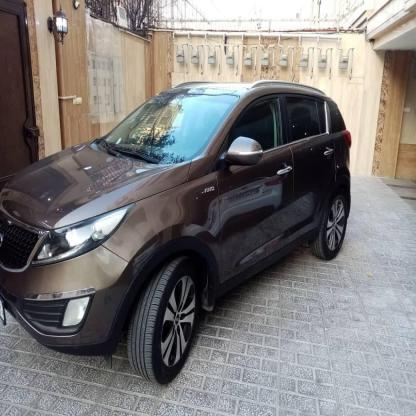Car: (0, 83, 352, 381)
